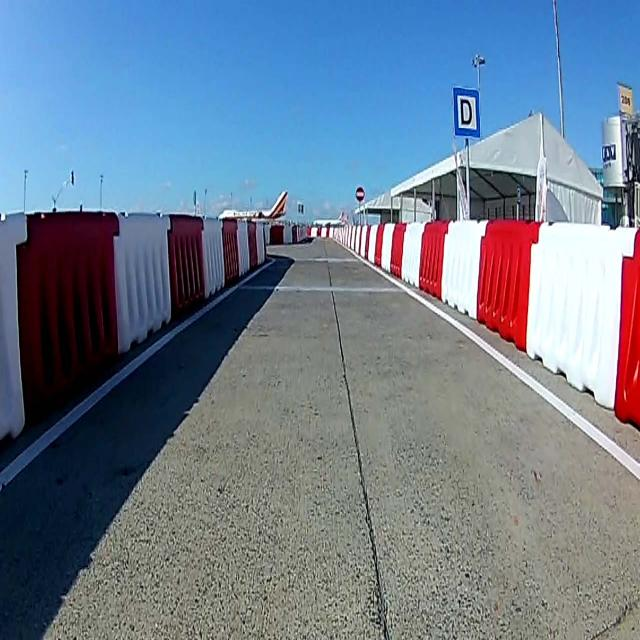durak: (452, 87, 482, 138)
girisyok: (355, 184, 365, 203)
